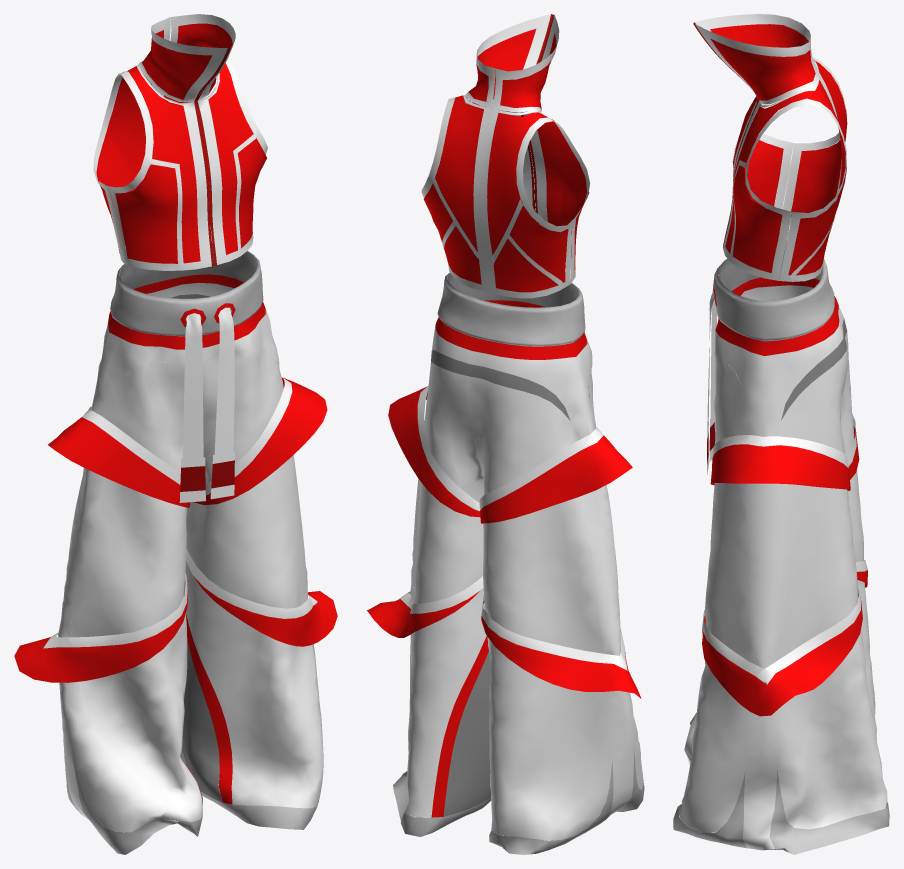
Rendered from sci-fi.glb.
The picture shows the model from 3 angles, left to right: view 1: azimuth 30°, elevation 25°; view 2: azimuth 150°, elevation 25°; view 3: azimuth 270°, elevation 25°; orthographic projection. The views are drawn at different scales.
Parts seen in each view (by area): view 1: Wing Pants Outfit - Full_0; view 2: Wing Pants Outfit - Full_0; view 3: Wing Pants Outfit - Full_0.
Boxes of the visible parts, x1,y1,x2,y2 form: Wing Pants Outfit - Full_0: (14,14,337,854); Wing Pants Outfit - Full_0: (367,14,644,854); Wing Pants Outfit - Full_0: (673,14,889,854).
Size of the model in its own units: 0.6506 by 1.64 by 0.4137.
2 materials, 2 textured.
